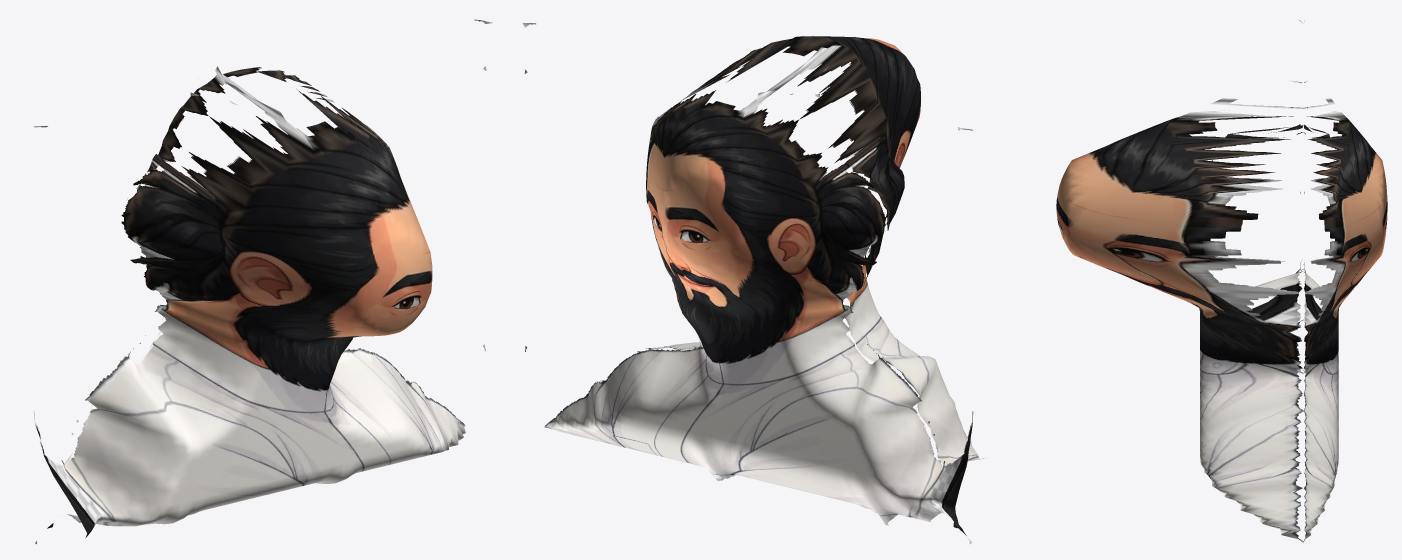
Rendered from char-alaa.glb.
3 views of the same model, side by side, from view 1: azimuth 30°, elevation 25°; view 2: azimuth 150°, elevation 25°; view 3: azimuth 270°, elevation 25° (orthographic). The views are drawn at different scales.
Parts seen in each view (by area): view 1: alaa; view 2: alaa; view 3: alaa.
Part boxes in pixels (bbox=[...]): alaa: bbox=[33, 19, 492, 544]; alaa: bbox=[522, 23, 983, 543]; alaa: bbox=[1056, 19, 1387, 542].
Size of the model in its own units: 1.13 by 1 by 0.8307.
Materials: 1 (1 with a texture image).
